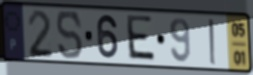2: (26, 8, 55, 59)
6: (96, 13, 120, 61)
9: (169, 17, 191, 64)
E: (126, 13, 158, 64)
I: (207, 18, 218, 67)
S: (55, 9, 85, 61)
